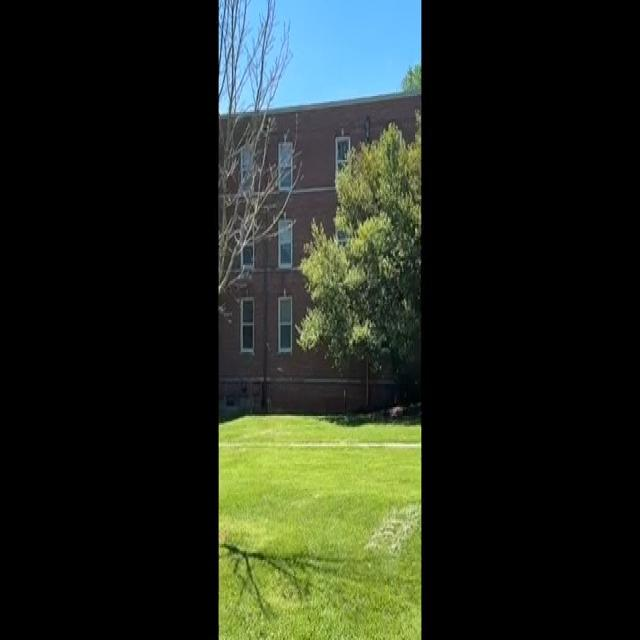drone: (274, 359, 288, 375)
